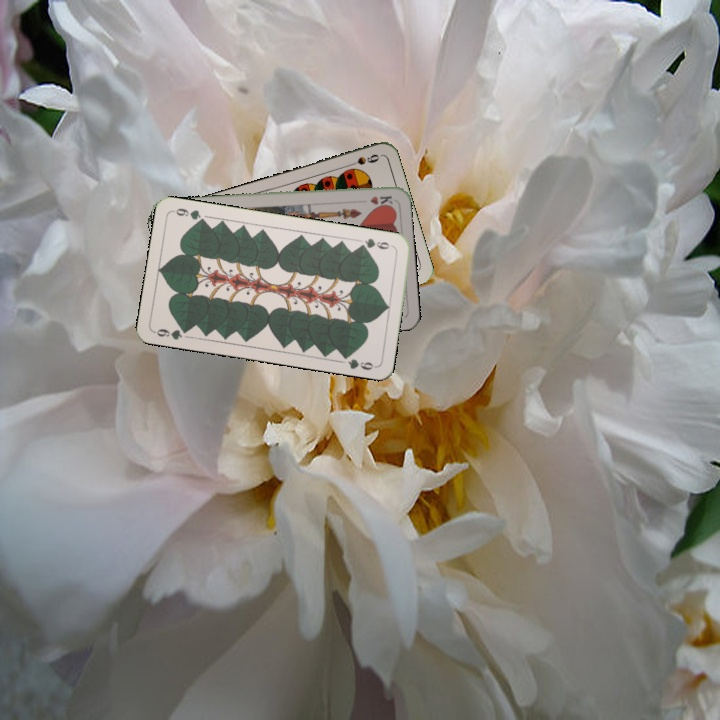G9: (355, 234, 396, 252), (151, 324, 192, 342)
HK: (366, 192, 395, 206)
S9: (342, 150, 382, 169)
